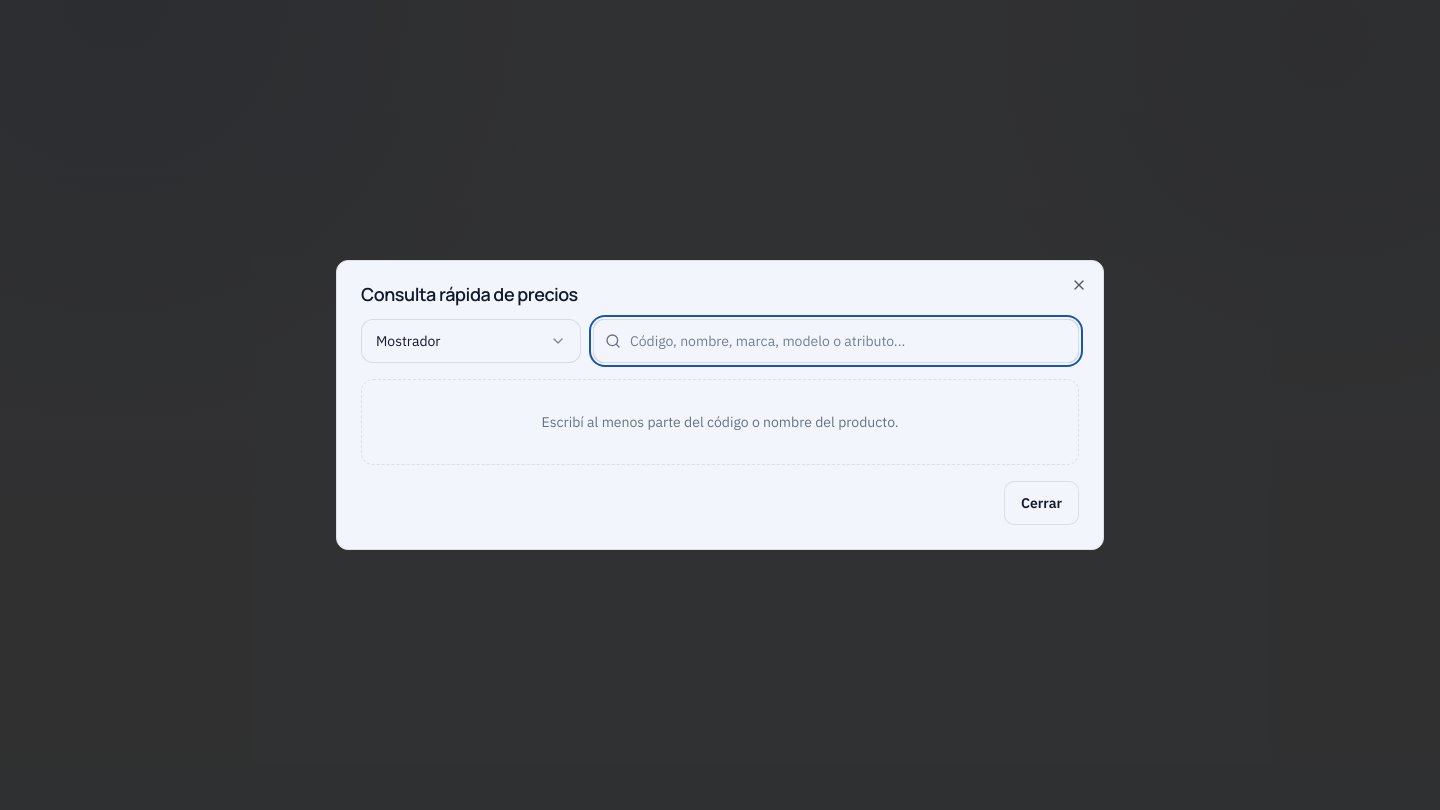
QuickPriceConsultationDialog › does not leak unrelated products into the results
Type "bujía" into the field named "Buscar producto para consultar" at (836, 341), box [593,319,1079,363]
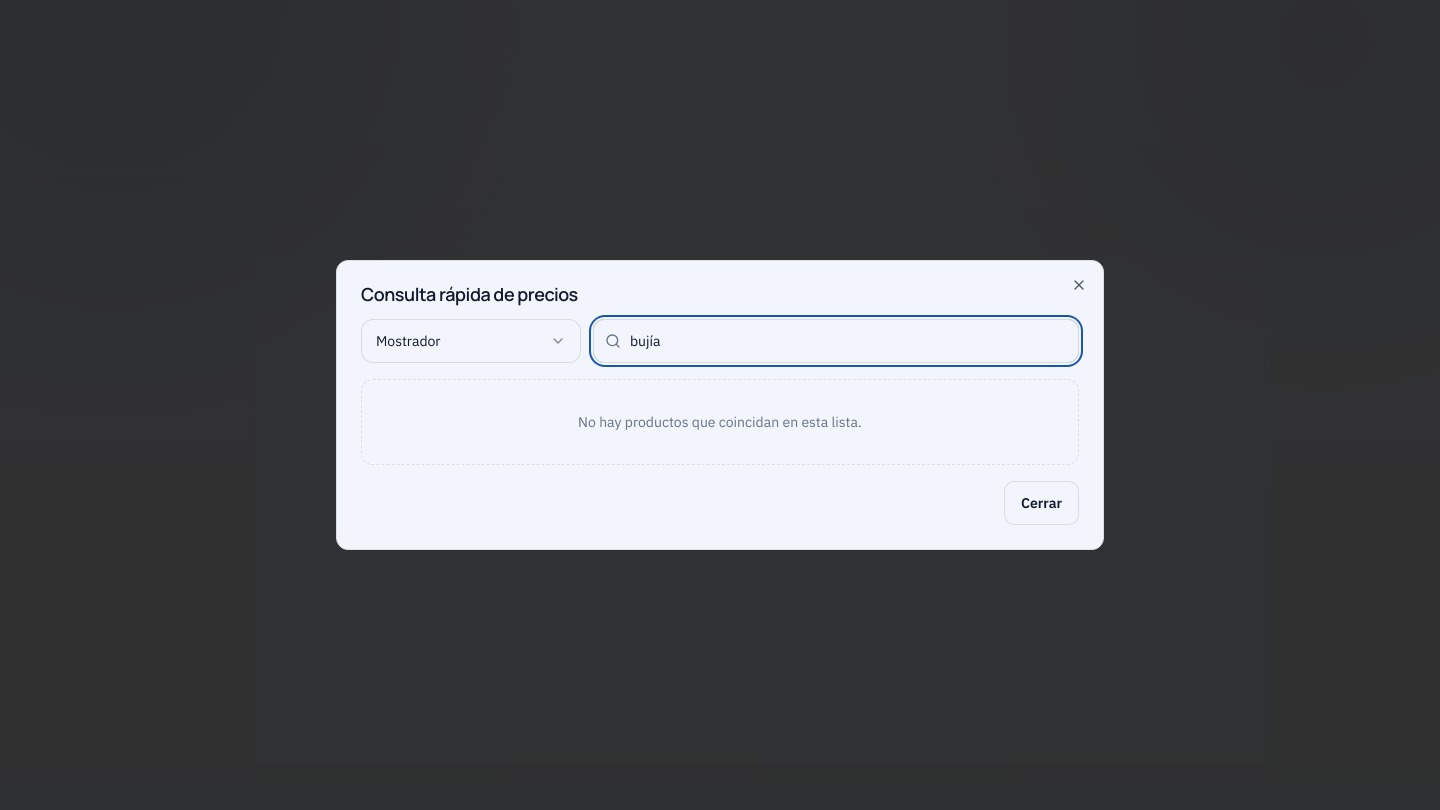
Now the text "No hay productos que coincidan en esta lista." is shown, box [361,379,1079,465]
